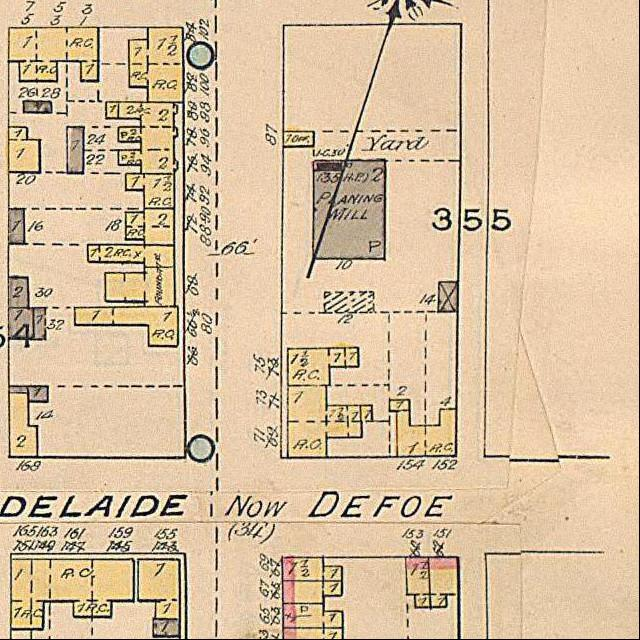building-footprints: (11, 560, 135, 630), (314, 161, 386, 260), (289, 386, 373, 458), (9, 28, 99, 82), (119, 102, 179, 175), (75, 307, 179, 347), (130, 28, 184, 103), (398, 409, 457, 458), (106, 268, 176, 308), (288, 348, 359, 386), (138, 560, 180, 620), (89, 245, 175, 268), (10, 393, 38, 458), (126, 209, 175, 246), (126, 174, 175, 209), (429, 557, 459, 608), (283, 604, 343, 628), (9, 127, 40, 173), (283, 558, 342, 582), (283, 582, 342, 604), (406, 558, 431, 608), (67, 127, 84, 174), (9, 308, 34, 339), (284, 628, 343, 640), (9, 277, 29, 308), (9, 209, 25, 245), (439, 282, 458, 312), (154, 619, 180, 637), (284, 132, 314, 146), (34, 308, 46, 340), (24, 101, 52, 114), (29, 387, 48, 402), (390, 400, 410, 411), (107, 102, 119, 119), (9, 386, 29, 394)
